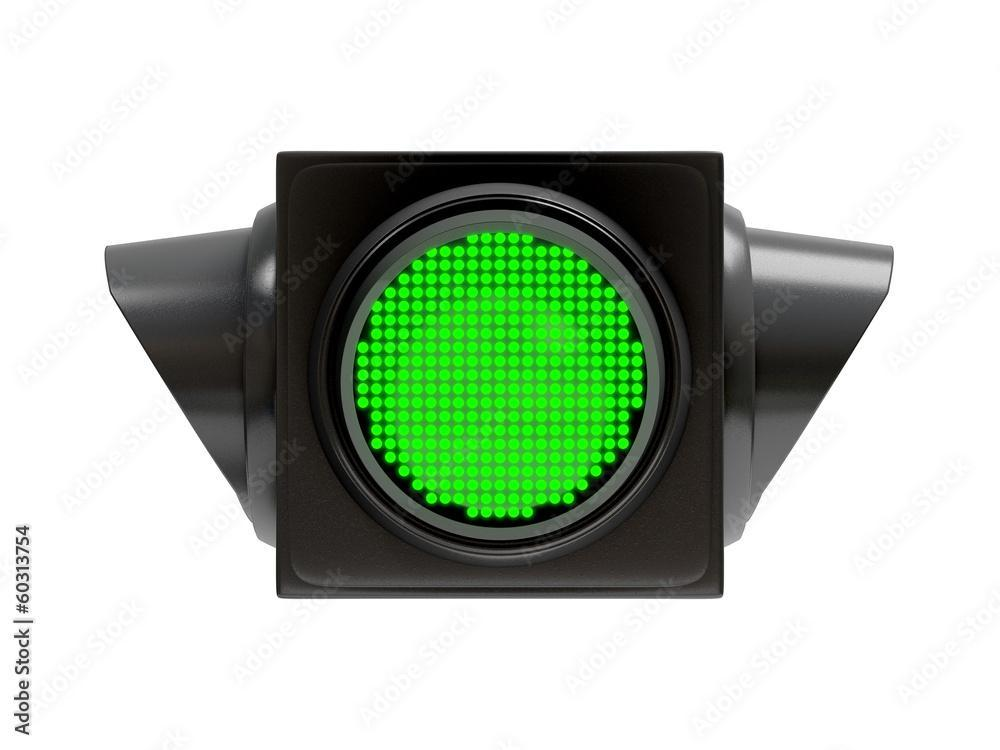green: (268, 142, 734, 616)
